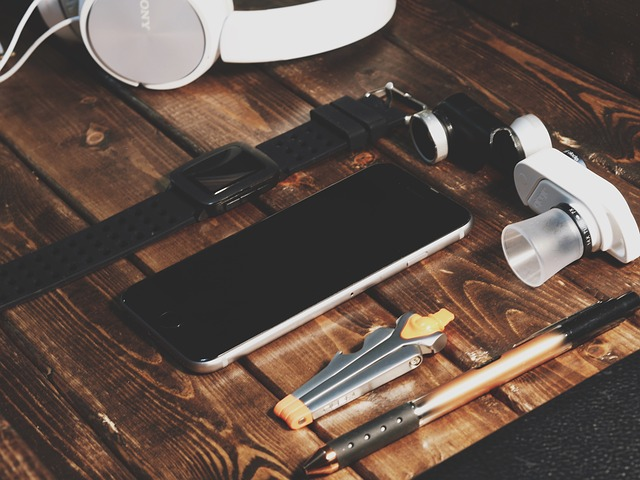headphones: (34, 1, 396, 90)
